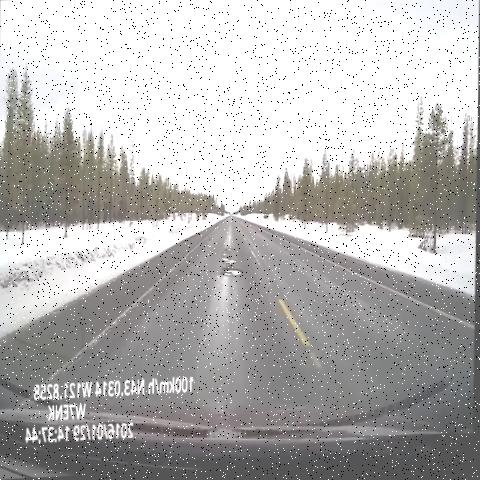pothole: (218, 266, 244, 286), (217, 251, 241, 271), (222, 243, 239, 258)
